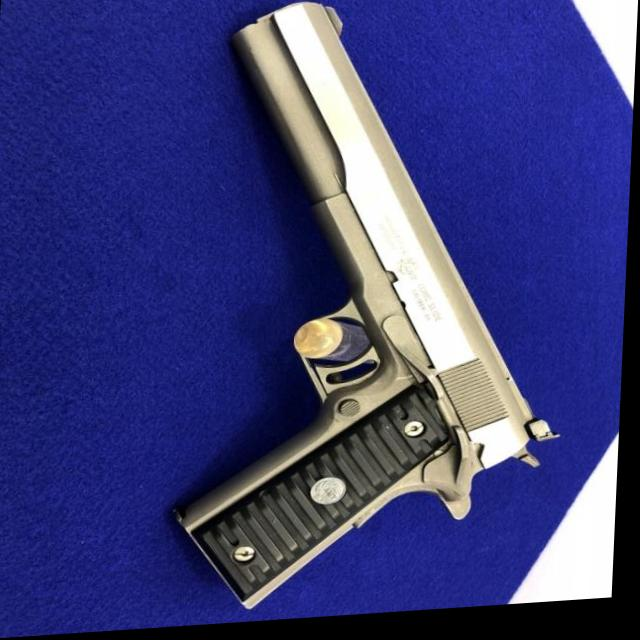handgun: (179, 0, 582, 615)
